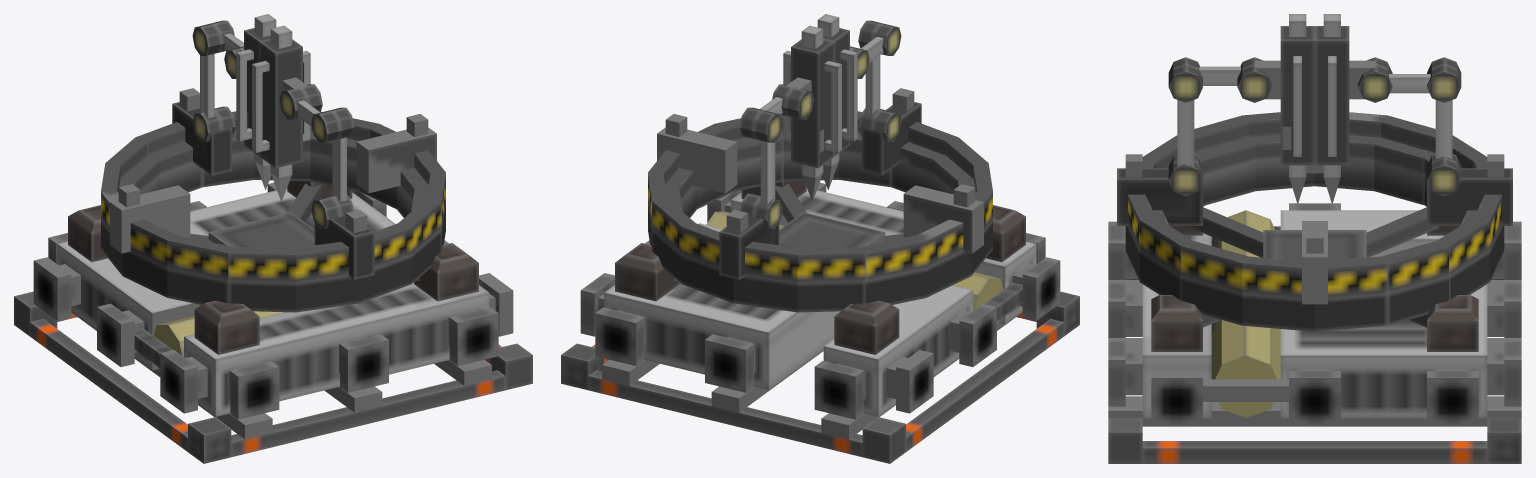
Rendered from assembly_machine.obj.
3 views of the same model, side by side, from view 1: azimuth 30°, elevation 25°; view 2: azimuth 150°, elevation 25°; view 3: azimuth 270°, elevation 25° (orthographic). The views are drawn at different scales.
Parts seen in each view (by area): view 1: Head2; view 2: Head2; view 3: Head2.
Boxes of the visible parts, x1,y1,x2,y2 form: Head2: [14, 14, 532, 463]; Head2: [561, 14, 1079, 463]; Head2: [1108, 14, 1521, 463].
Size of the model in its own units: 3 by 2.88 by 3.
